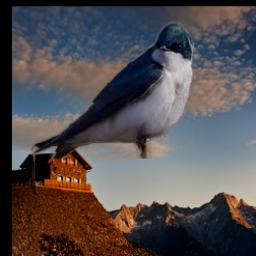Swallow: (31, 22, 194, 159)
